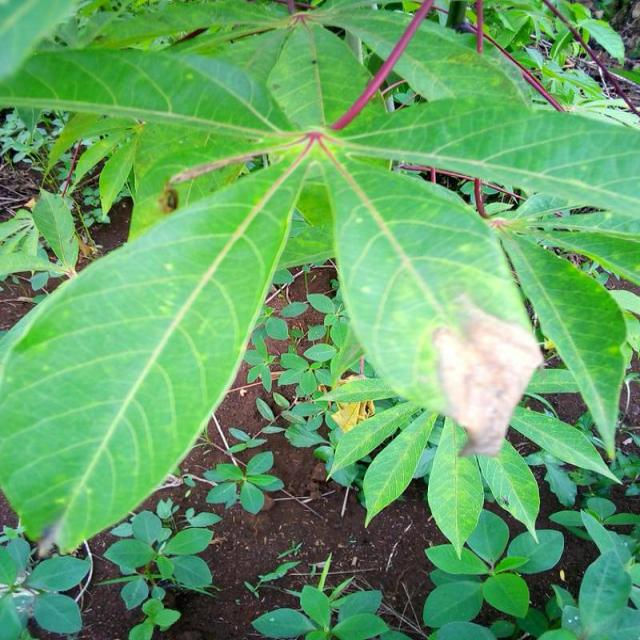cassava leaf: (1, 1, 638, 559), (1, 140, 313, 556), (322, 148, 545, 458)
